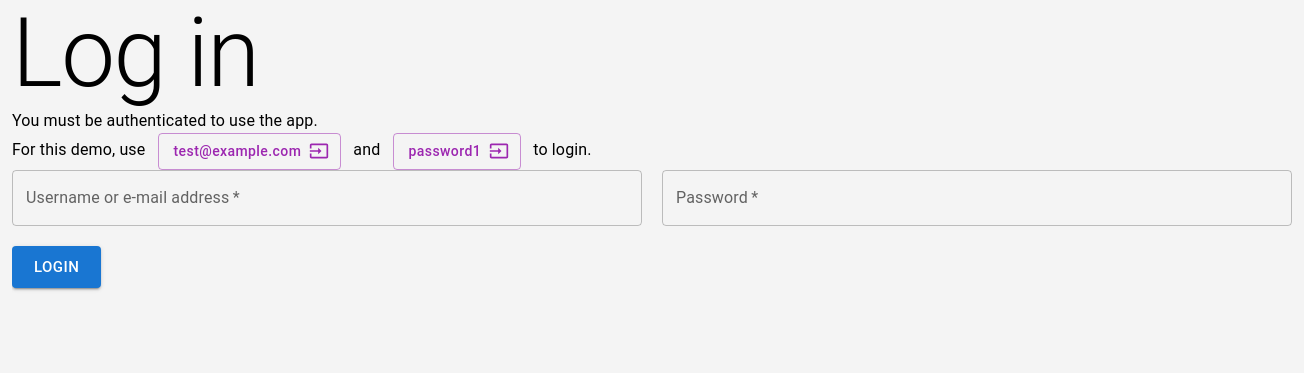
Scenario: Login component › shows an alert for invalid credentials
Type "wrong@example.com" into the field labelled "Username or e-mail address" at (327,198), box [12,170,642,226]
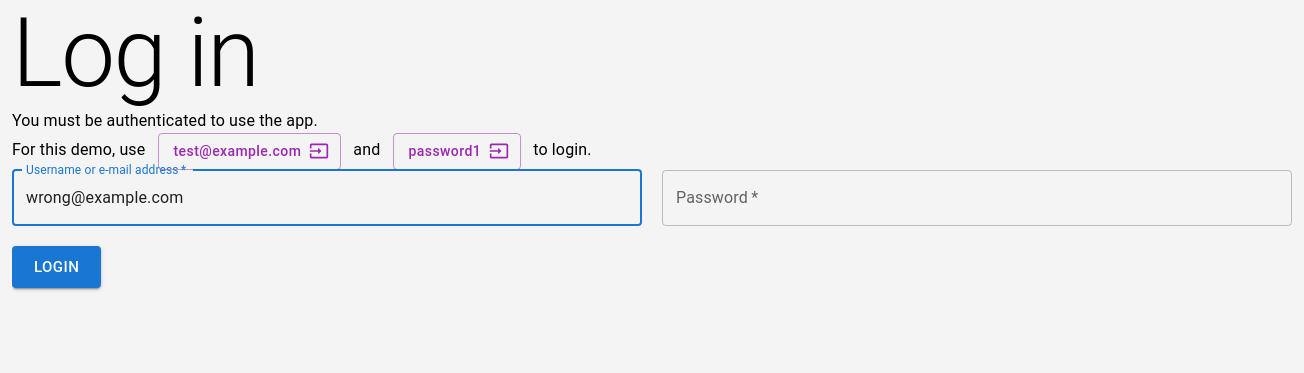
Type "bad password" into the password field labelled "Password *" at (977,198), box [662,170,1292,226]
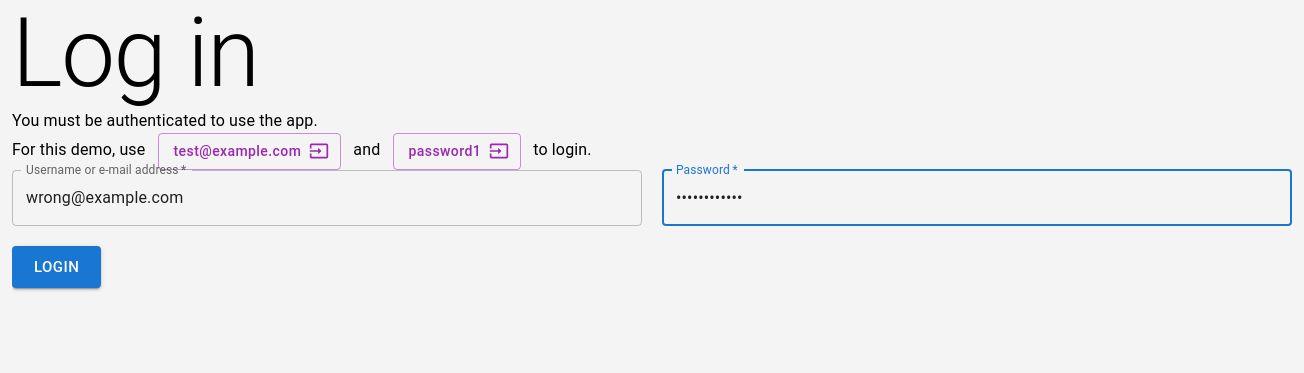
Click the button "Login" at (57,267), box [12,246,101,288]
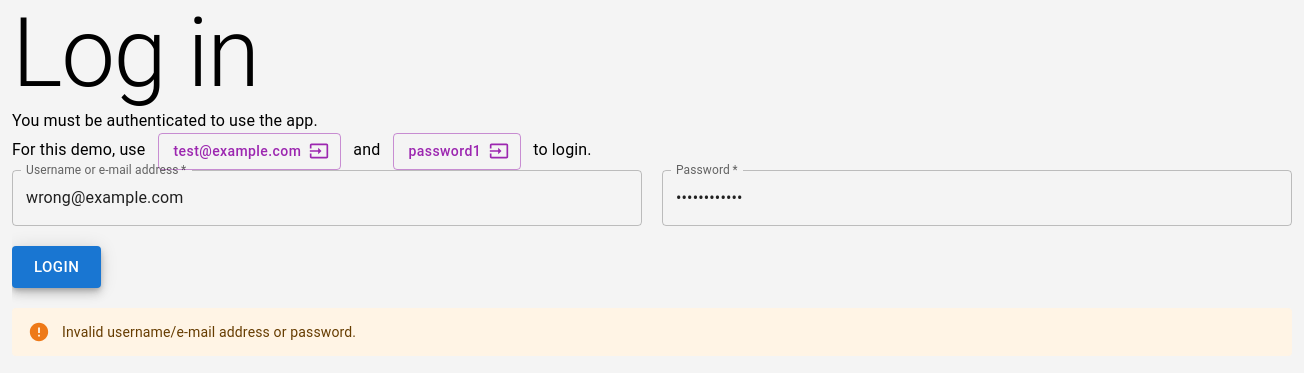
Expected: the message reads "Invalid username/e-mail address or password.", [62,324,356,340]
